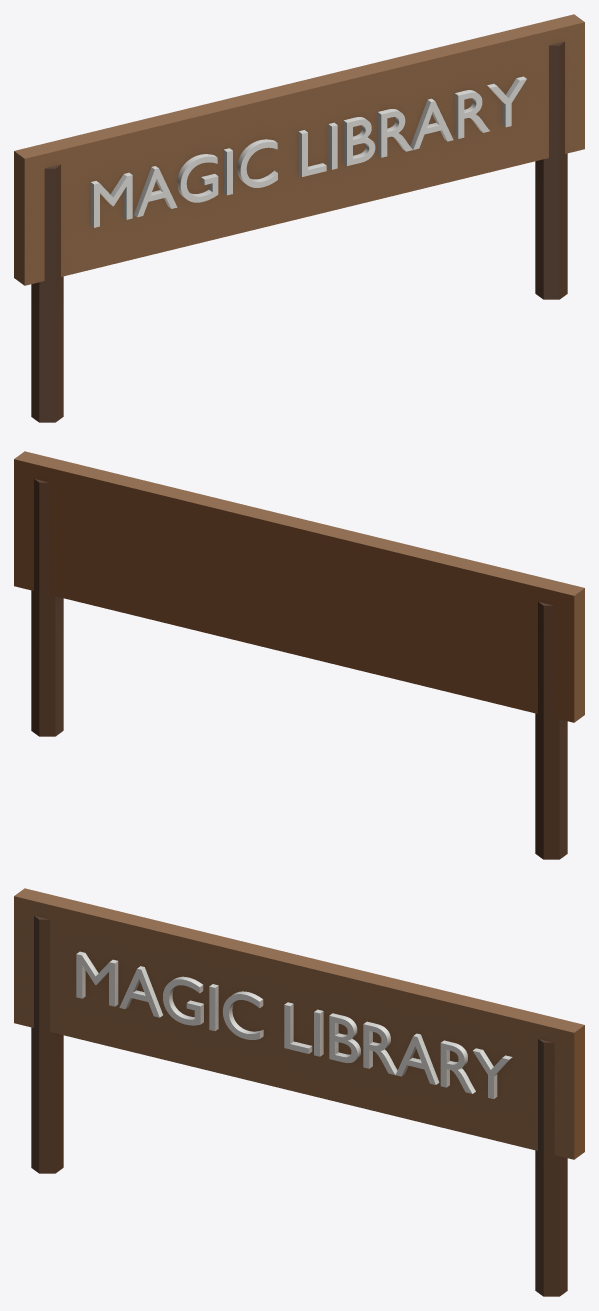
File: area_library_0_1.fbx
The picture shows the model from 3 angles, top to bottom: view 1: azimuth 30°, elevation 25°; view 2: azimuth 150°, elevation 25°; view 3: azimuth 330°, elevation 25°; orthographic projection.
Parts seen in each view (by area): view 1: area_library_0_1_body; view 2: area_library_0_1_body; view 3: area_library_0_1_body.
Boxes of the visible parts, x1,y1,x2,y2 form: area_library_0_1_body: (14, 14, 584, 422); area_library_0_1_body: (14, 451, 584, 859); area_library_0_1_body: (14, 888, 584, 1296).
Size of the model in its own units: 3000 by 1375 by 158.
Materials: 1 (1 with a texture image).
